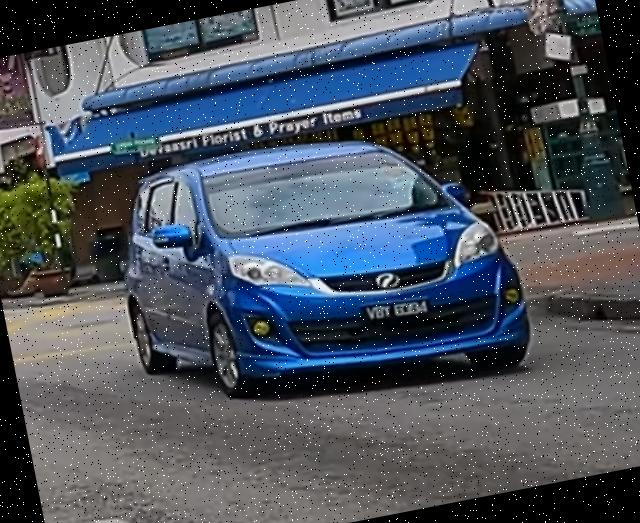License_Plate: (363, 293, 433, 327)
car: (101, 101, 541, 439)
